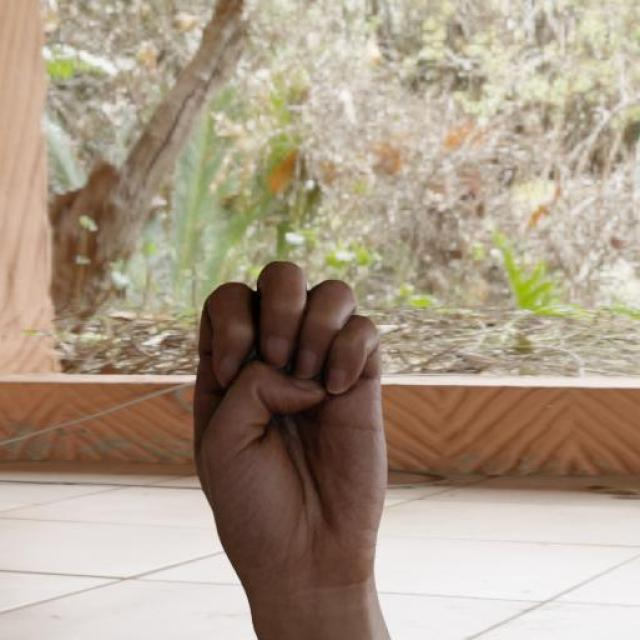E: (185, 255, 390, 576)
